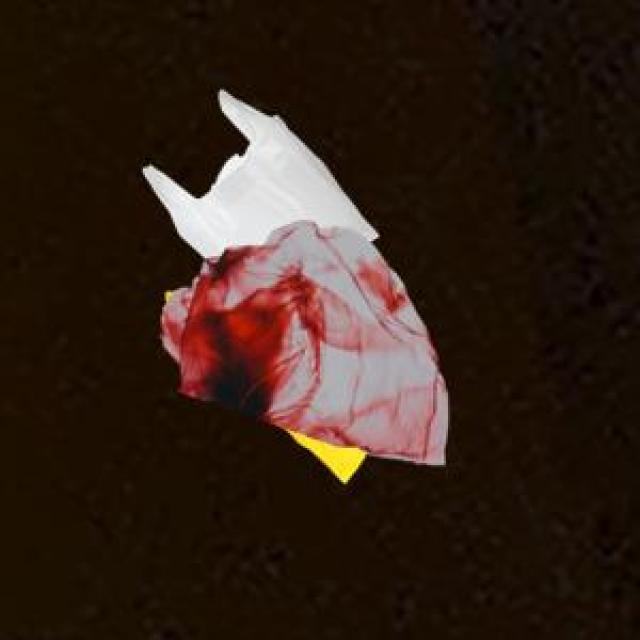plastic: (113, 79, 490, 502)
